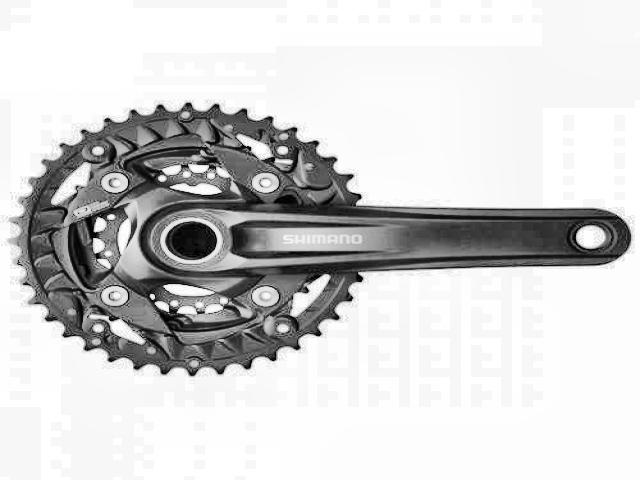cranks_set: (5, 100, 634, 376)
